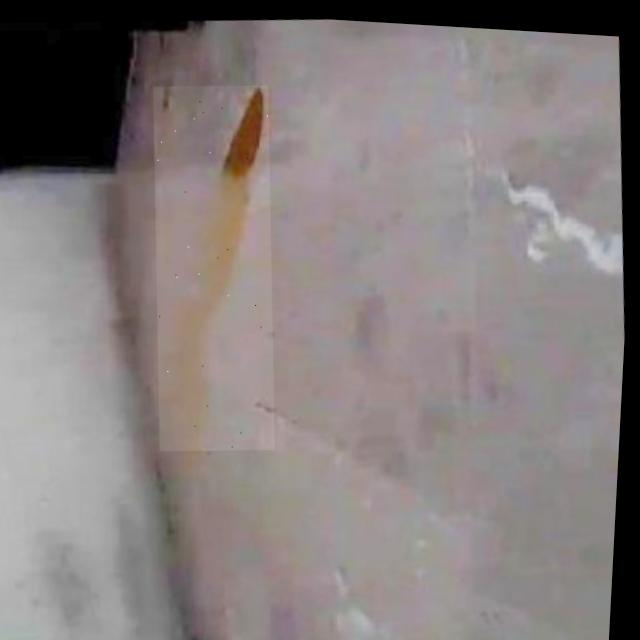spillage: (164, 81, 269, 447)
